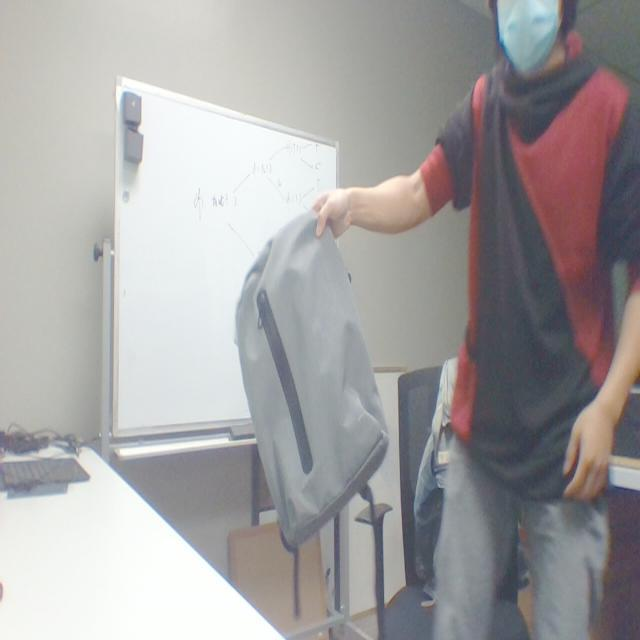Backpacks: (230, 208, 388, 556)
